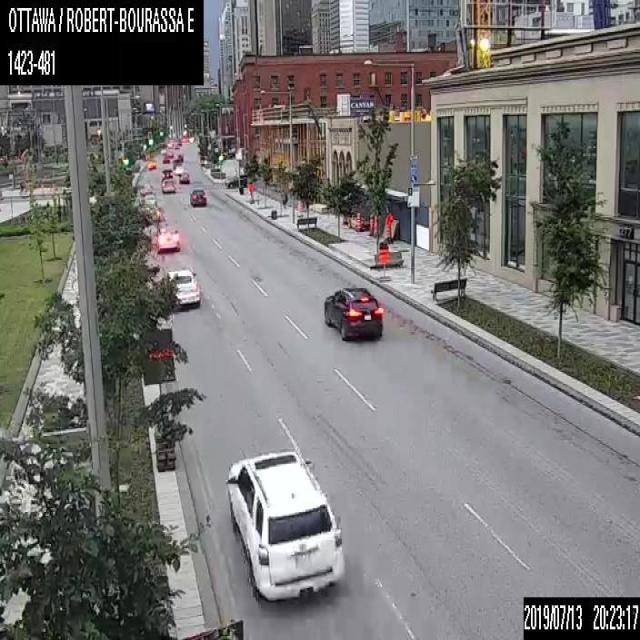construction: (378, 244, 389, 280), (384, 212, 392, 243), (247, 181, 254, 203), (355, 211, 360, 233), (296, 199, 302, 216)
pedestrian: (281, 186, 287, 209)
vehicle: (224, 448, 346, 604), (322, 284, 383, 340), (165, 264, 200, 309), (155, 220, 180, 251), (223, 172, 247, 188), (189, 186, 206, 206), (161, 177, 174, 192), (178, 170, 189, 183), (160, 168, 172, 178), (174, 166, 183, 174)
